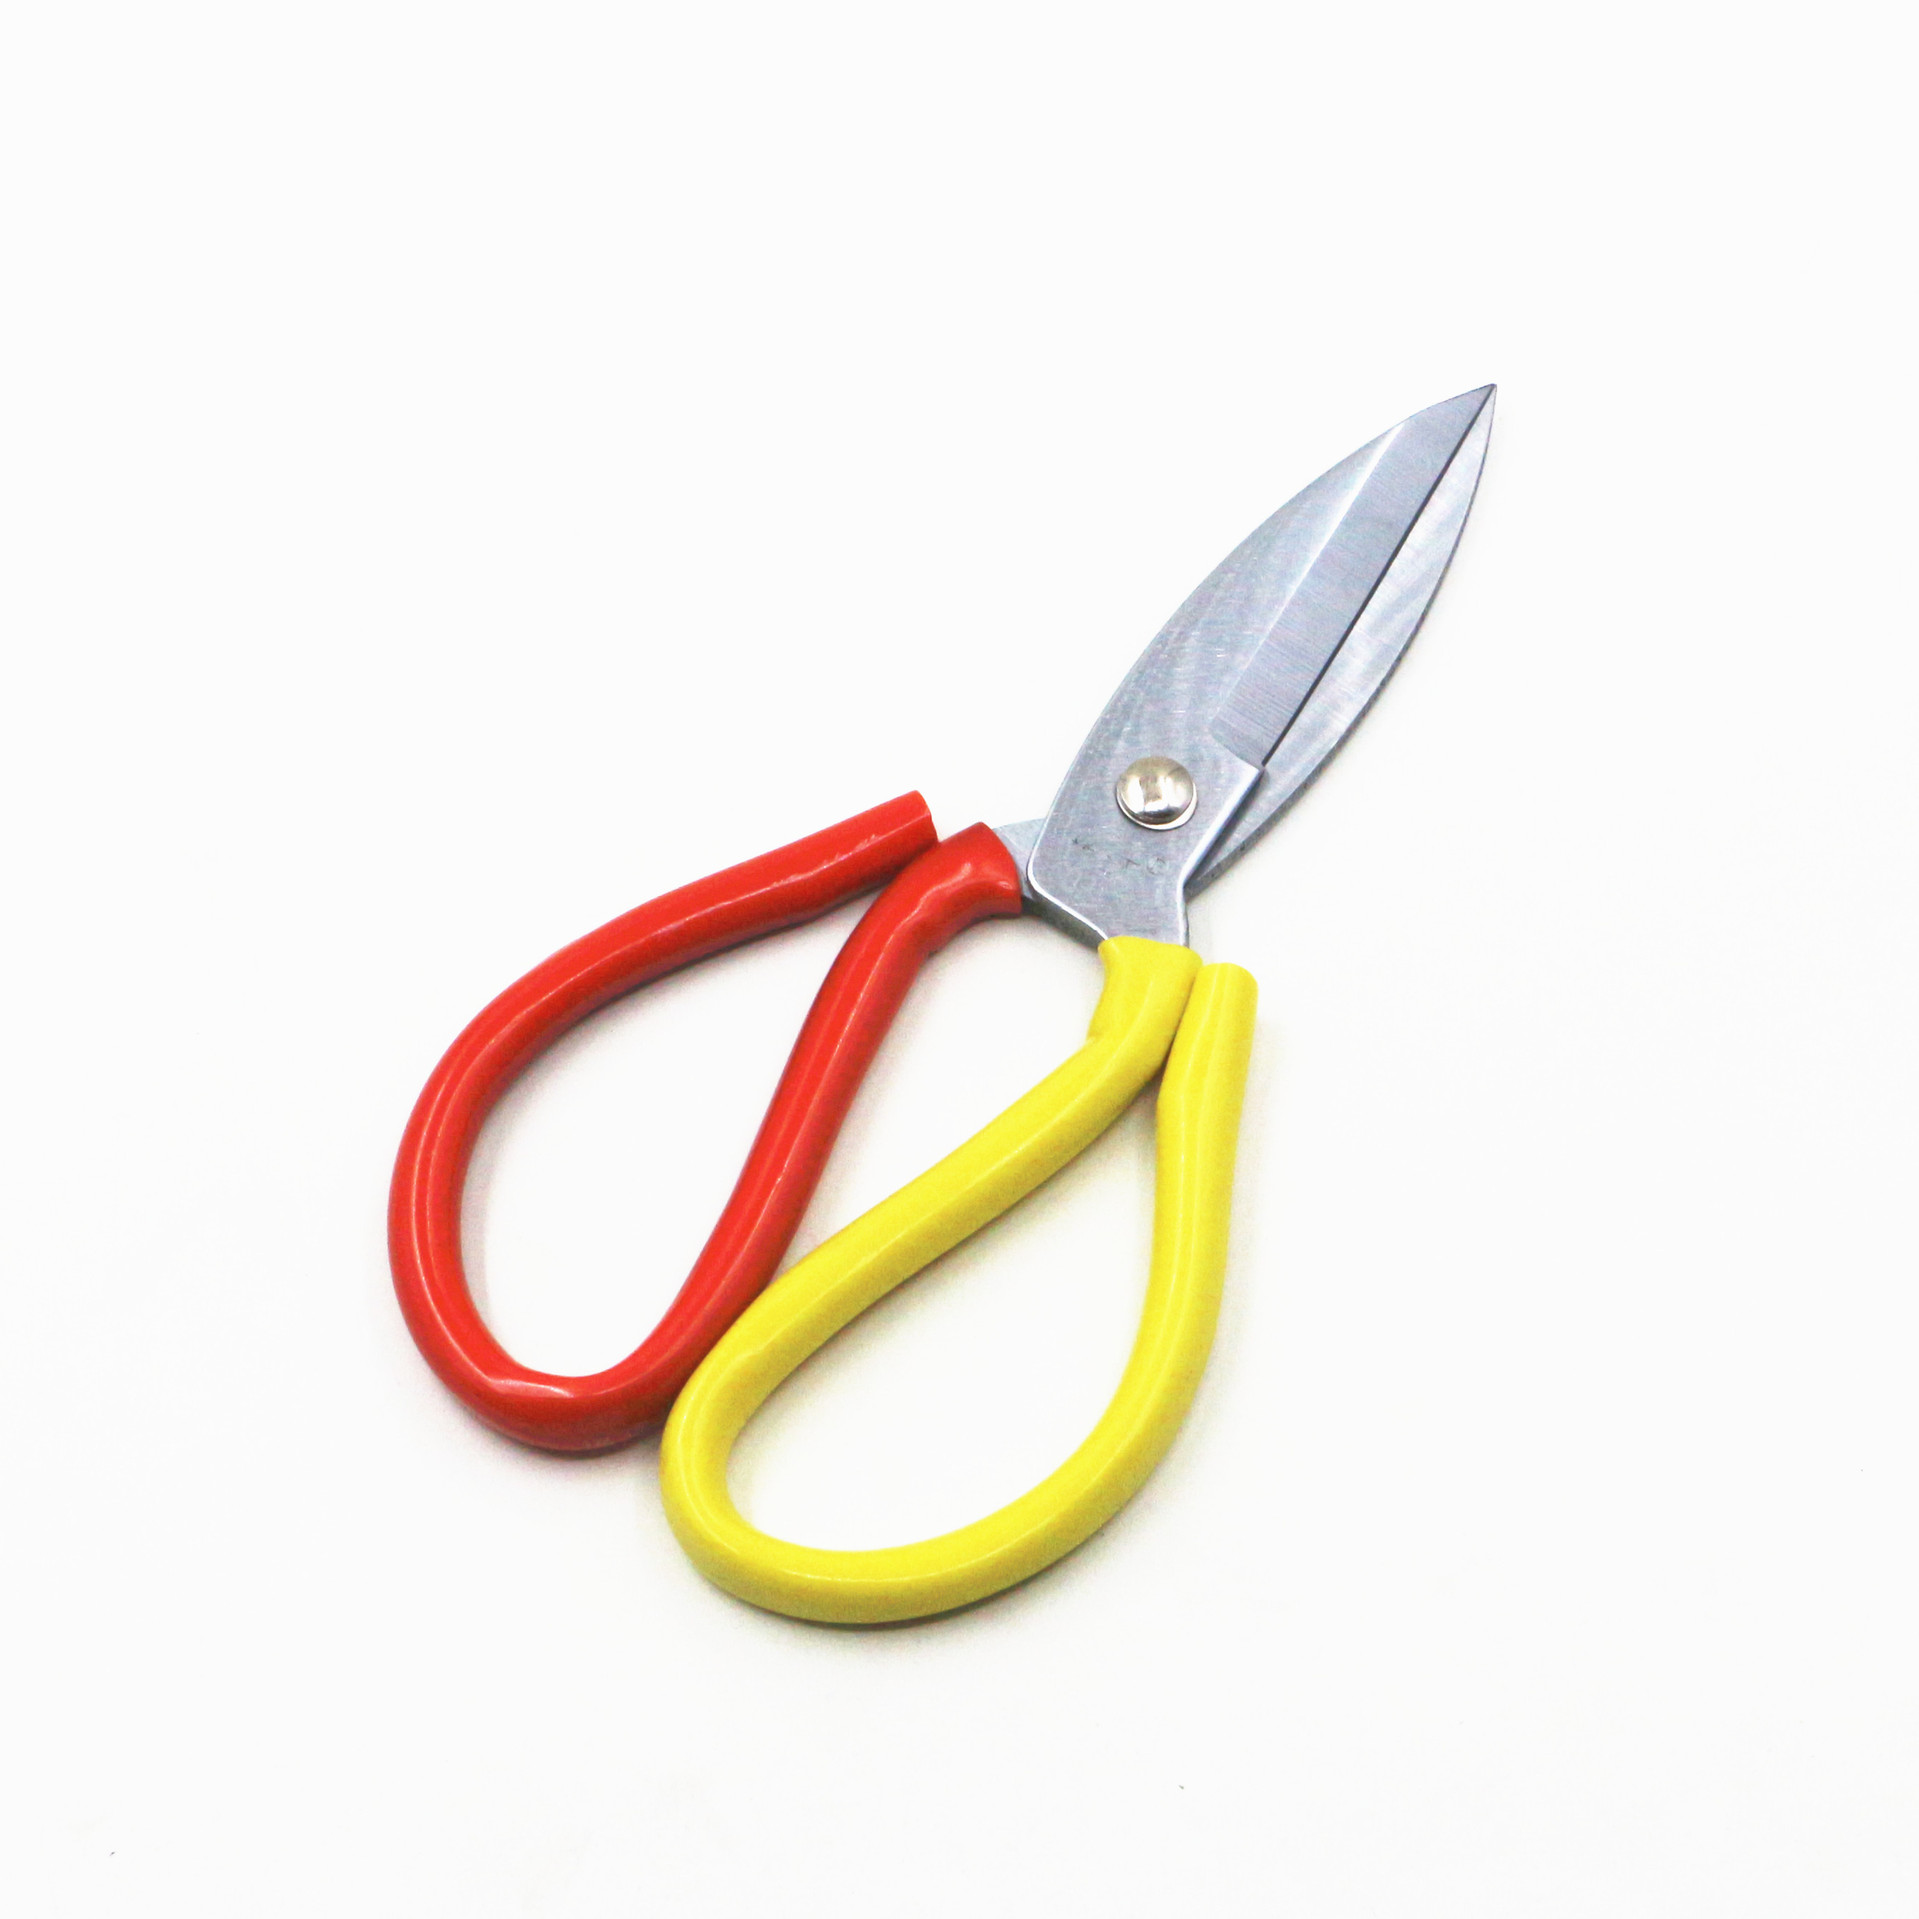scissors: (371, 364, 1522, 1631)
